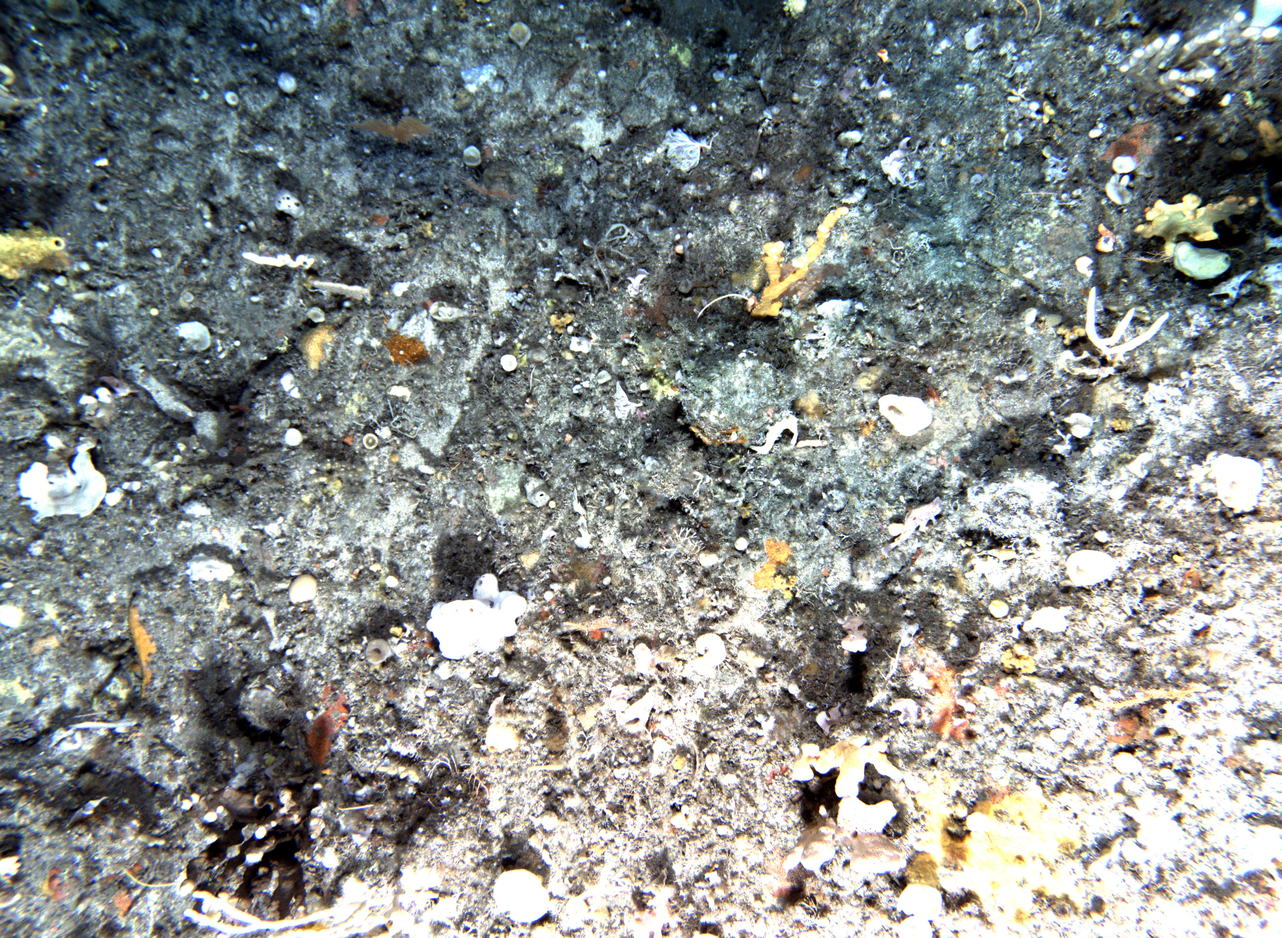Brachionichthyidae: (880, 496, 944, 557)
